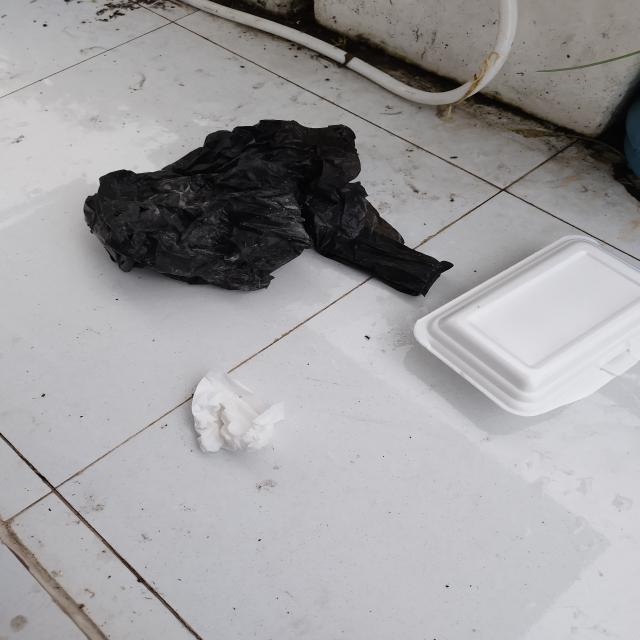bag: (82, 119, 457, 298)
foam box: (415, 234, 640, 418)
napkin: (187, 362, 291, 456)
